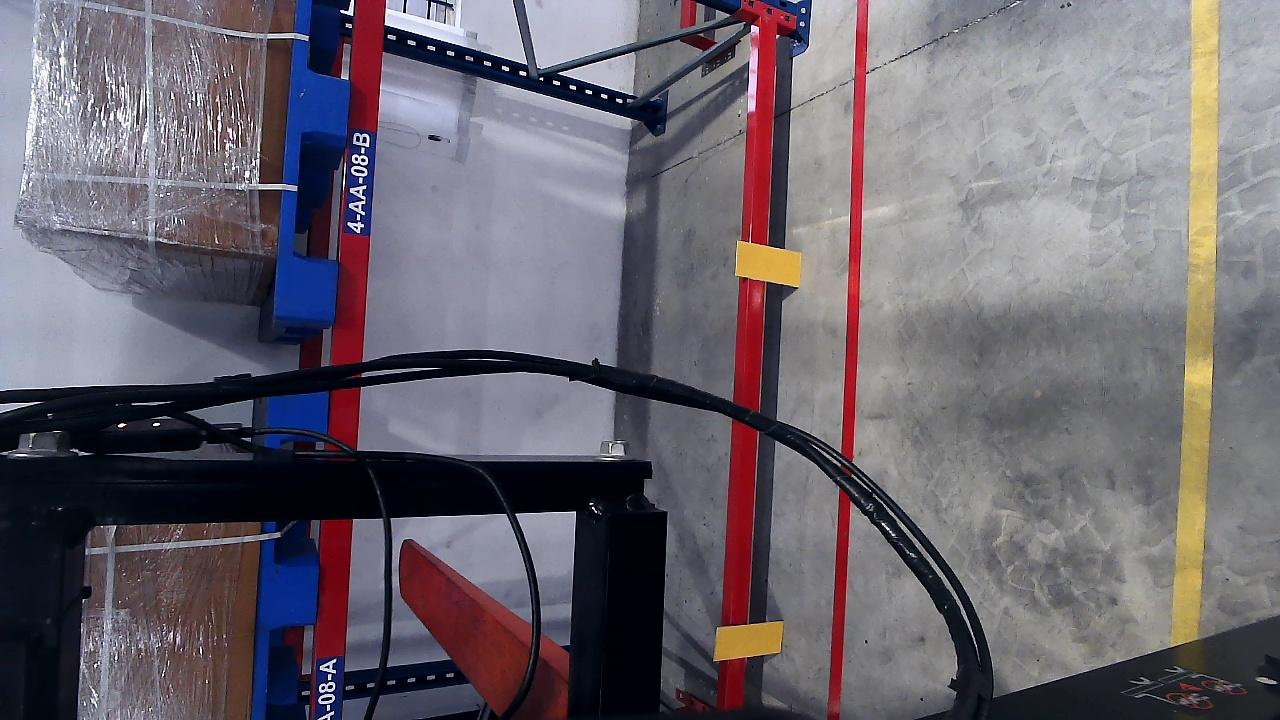h_rack: (324, 0, 390, 436), (735, 14, 780, 406), (311, 453, 358, 716)
orange_strip: (735, 241, 801, 287), (715, 621, 783, 661)
red_line: (836, 12, 869, 615)
small_pallet: (268, 1, 362, 318)
yellow_line: (1171, 88, 1219, 646)
